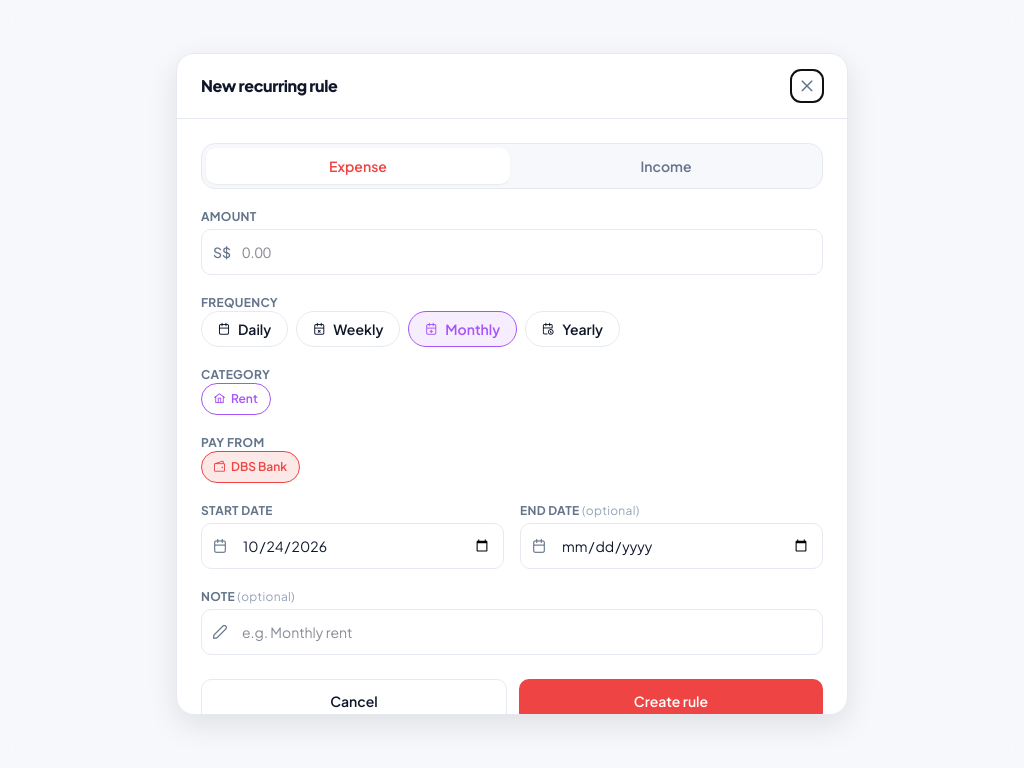
Scenario: RecurringRuleModal › renders income categories when Income kind is selected
The width and height of the screenshot is (1024, 768).
Click the button "Income": [666, 166] box 514,148 -> 818,184
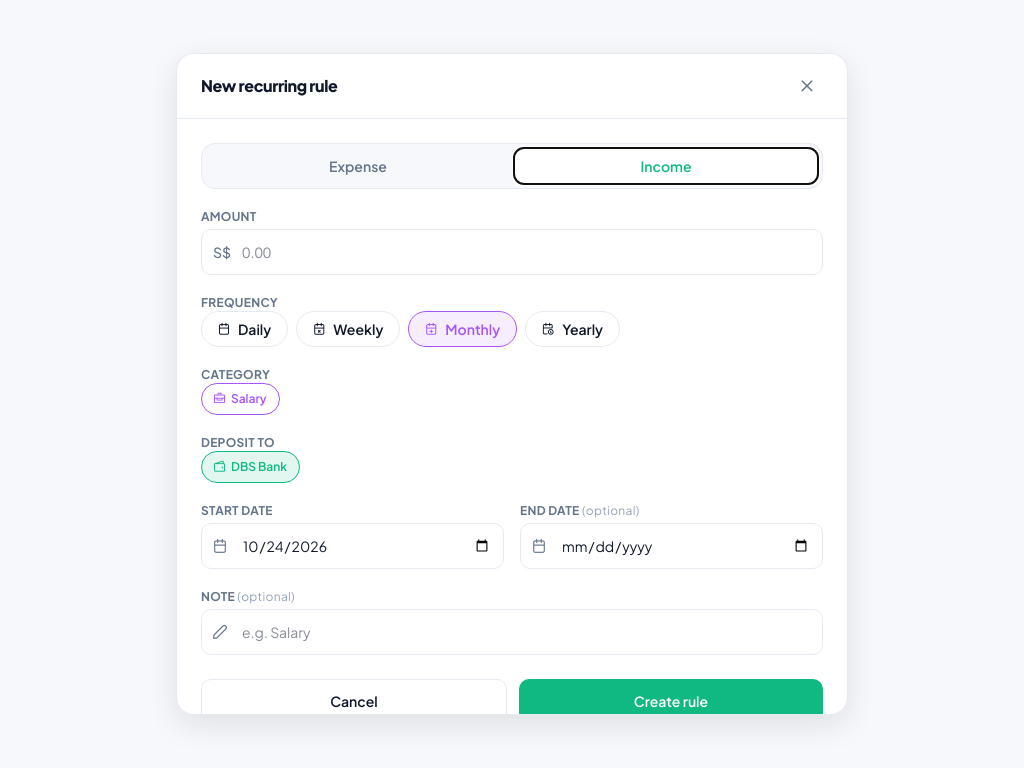
Expected: the button "Salary" is shown, 201,383 -> 280,415
